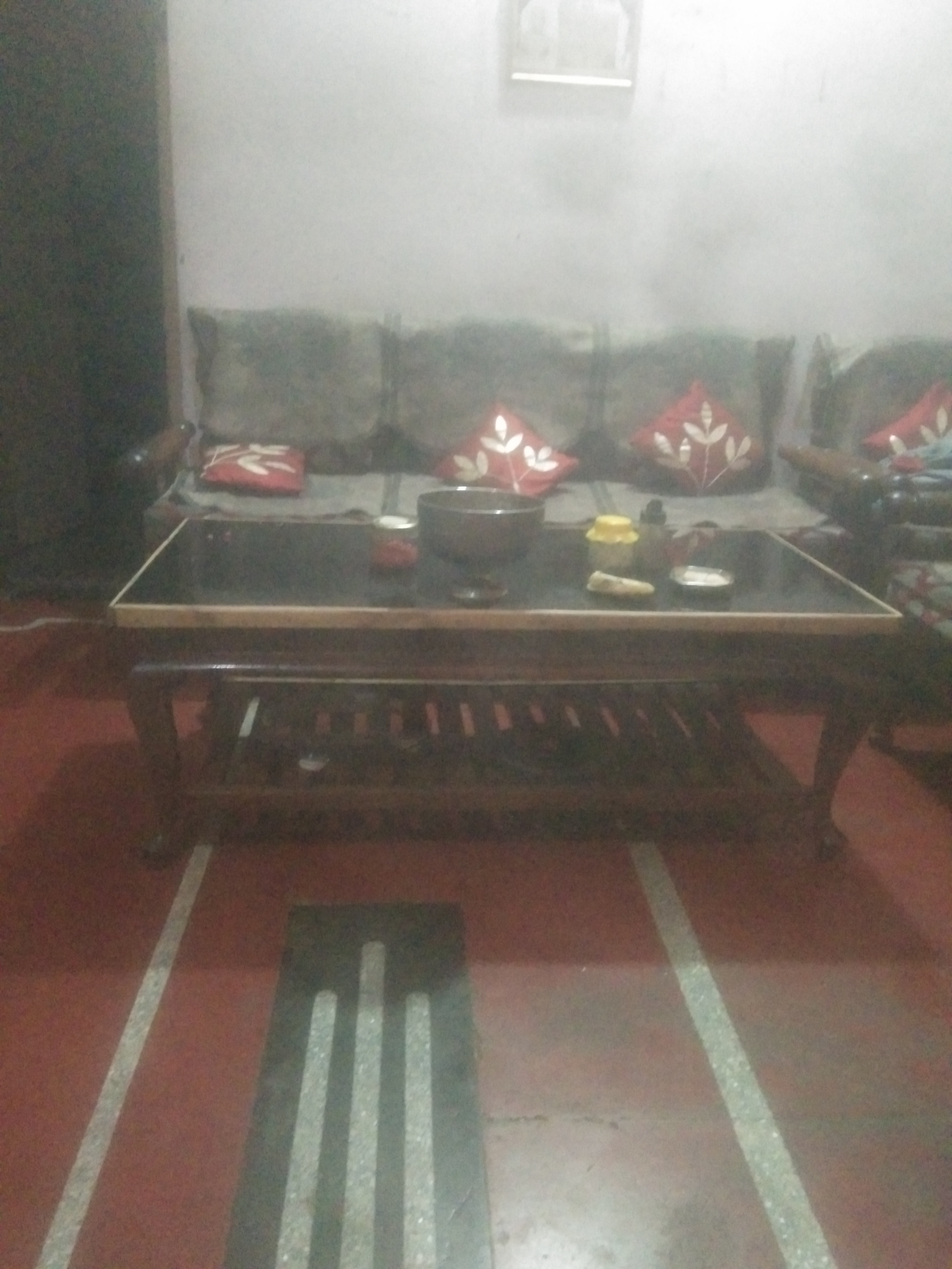sofa: (123, 308, 892, 613), (826, 331, 952, 520)
table: (101, 507, 899, 852)
